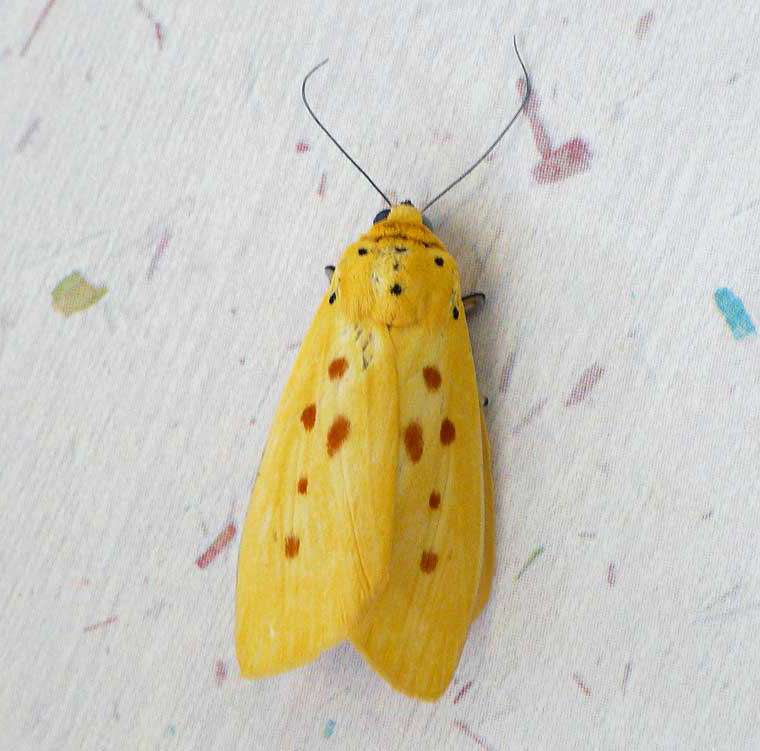Agape chloropyga: (223, 26, 536, 701)
moth: (227, 27, 540, 702)
